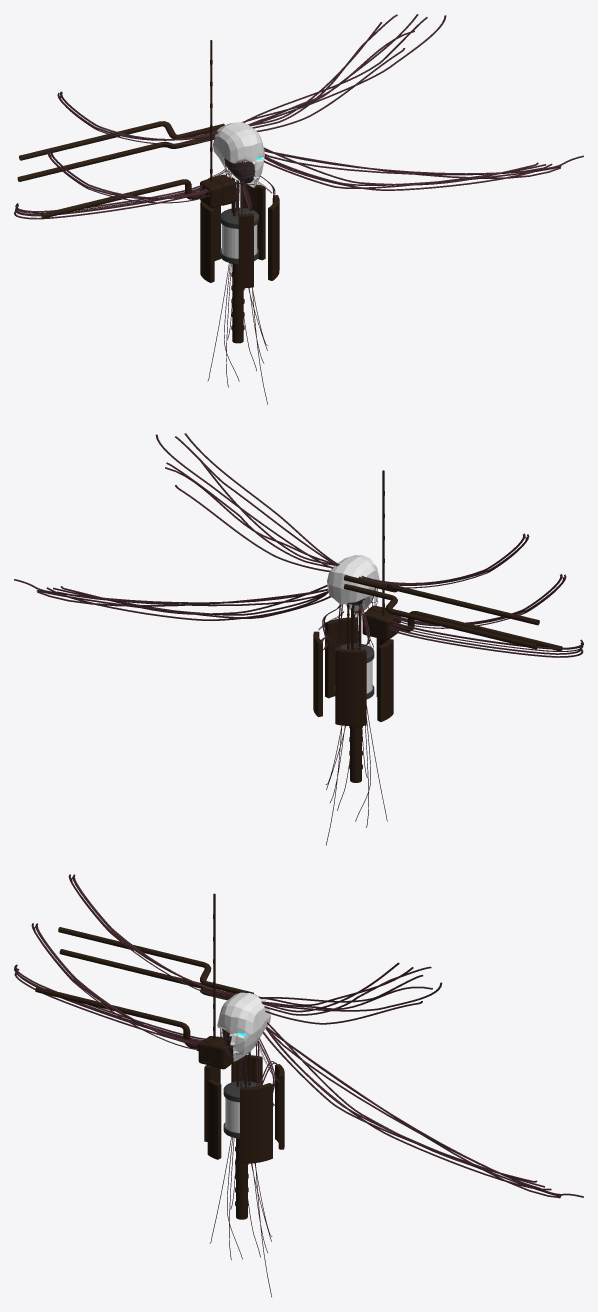
File: contraption.fbx
The picture shows the model from 3 angles, top to bottom: view 1: azimuth 30°, elevation 25°; view 2: azimuth 150°, elevation 25°; view 3: azimuth 330°, elevation 25°; orthographic projection. The views are drawn at different scales.
Visible parts, largest first — view 1: cables, defense, pipes, head, machine part, glass tank, tank base; view 2: cables, defense, pipes, machine part, head; view 3: cables, defense, pipes, head, machine part.
Part boxes in pixels (x1,y1,x2,y2): cables: [14, 14, 583, 404]; defense: [200, 184, 279, 288]; pipes: [17, 121, 224, 218]; head: [213, 122, 264, 187]; machine part: [200, 40, 244, 343]; glass tank: [221, 224, 257, 258]; tank base: [220, 207, 258, 264]; cables: [14, 433, 583, 845]; defense: [313, 617, 393, 726]; pipes: [343, 575, 562, 650]; machine part: [347, 470, 400, 782]; head: [327, 555, 379, 613]; cables: [14, 874, 583, 1297]; defense: [204, 1055, 284, 1163]; pipes: [35, 927, 253, 1048]; head: [217, 992, 270, 1061]; machine part: [196, 893, 250, 1219].
Size of the model in its own units: 2428 by 1563 by 321.
